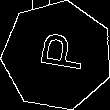P_W: (29, 33, 86, 79)
